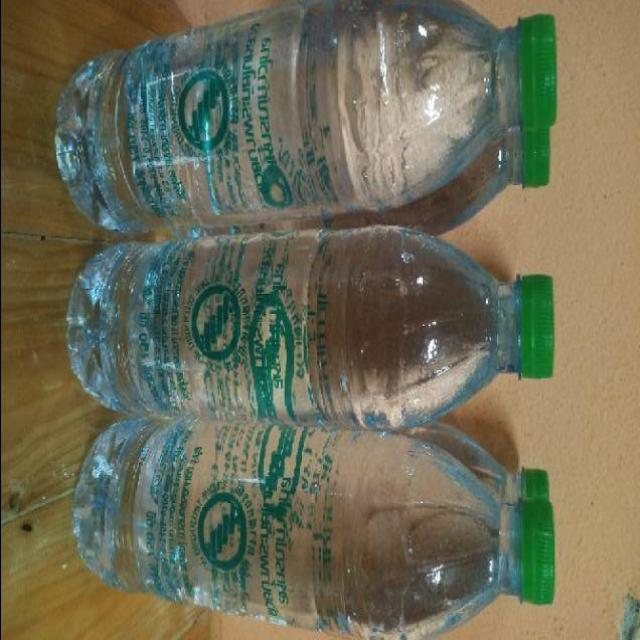plastik: (55, 0, 552, 230), (72, 420, 554, 640), (67, 227, 552, 429)
